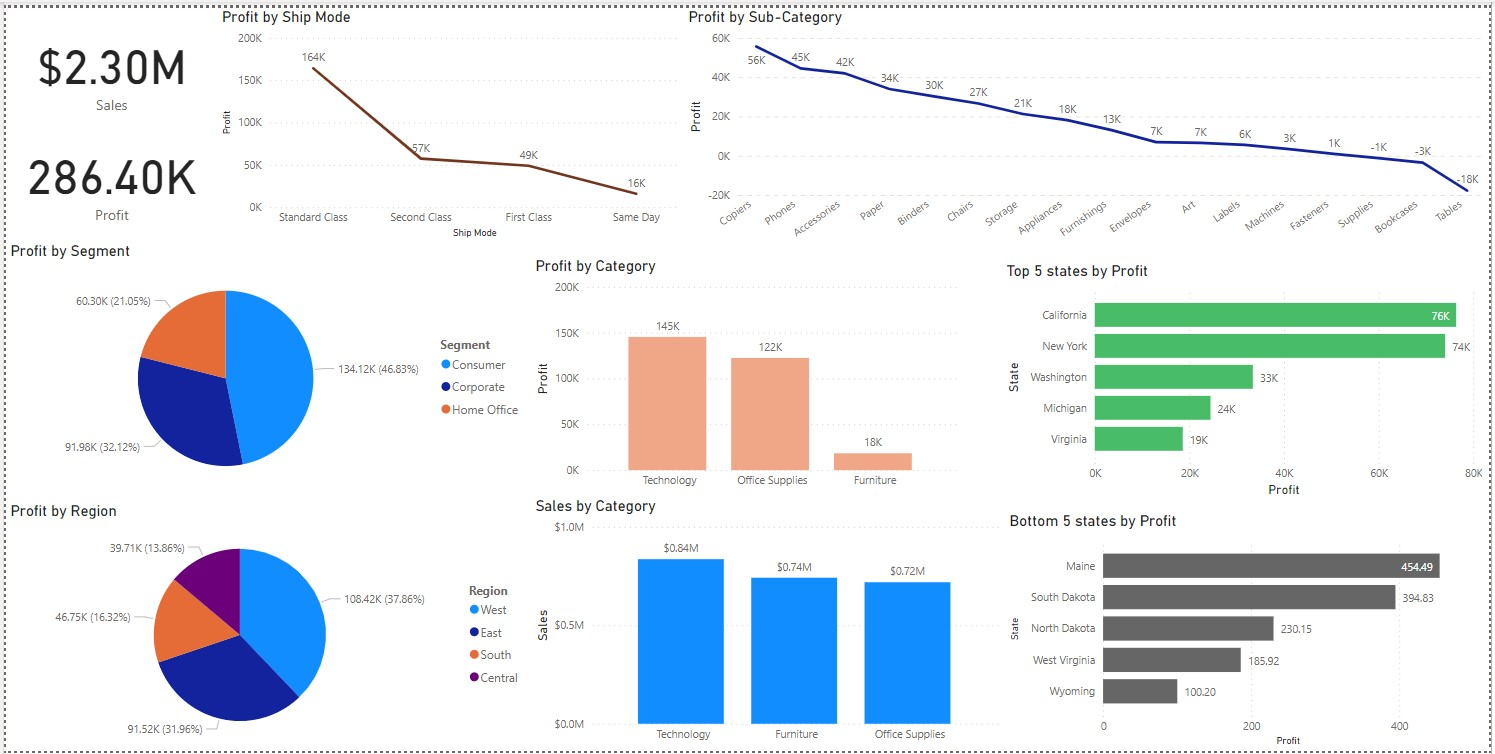

The page's visual inventory and layout, read from the dashboard file:
{"tool":"powerbi","page":{"name":"Dashboard","canvas":[1668,835],"ordinal":3},"visuals":[{"type":"columnChart","title":"Profit by Category","fields":{"Category":["SampleSuperstore.Category"],"Y":["Sum(SampleSuperstore.Profit)"]},"box":[590.4,280,484.1,269.9],"z":0},{"type":"columnChart","title":"Sales by Category","fields":{"Category":["SampleSuperstore.Category"],"Y":["Sum(SampleSuperstore.Sales)"]},"box":[590.4,549.9,533.1,285.1],"z":1000},{"type":"barChart","title":"Top 5 states by Profit","fields":{"Category":["SampleSuperstore.State"],"Y":["Sum(SampleSuperstore.Profit)"]},"box":[1120.1,285.1,544.9,269.9],"z":2000},{"type":"barChart","title":"Bottom 5 states by Profit","fields":{"Category":["SampleSuperstore.State"],"Y":["Sum(SampleSuperstore.Profit)"]},"box":[1123.5,566.8,541.5,268.2],"z":3000},{"type":"pieChart","title":"Profit by Region","fields":{"Category":["SampleSuperstore.Region"],"Y":["Sum(SampleSuperstore.Profit)"]},"box":[0,555,590.4,280],"z":4000},{"type":"pieChart","title":"Profit by Segment","fields":{"Category":["SampleSuperstore.Segment"],"Y":["Sum(SampleSuperstore.Profit)"]},"box":[0,263.2,590.4,286.8],"z":5000},{"type":"lineChart","title":"Profit by Ship Mode","fields":{"Category":["SampleSuperstore.Ship Mode"],"Y":["Sum(SampleSuperstore.Profit)"]},"box":[237.8,0,524.6,263.2],"z":6000},{"type":"card","fields":{"Values":["Sum(SampleSuperstore.Sales)"]},"box":[0,0,237.8,140],"z":7000},{"type":"card","fields":{"Values":["Sum(SampleSuperstore.Profit)"]},"box":[0,123.1,237.8,140],"z":8000},{"type":"lineChart","title":"Profit by Sub-Category","fields":{"Category":["SampleSuperstore.Sub-Category"],"Y":["Sum(SampleSuperstore.Profit)"]},"box":[762.5,0,905.8,280],"z":9000}]}

Visuals, with their boxes in screenshot pixels (x1, y1, x2, y2), scaled from the page's 1668x835 canvas onto the 1495x754 screenshot:
"Profit by Category" columnChart: box=[529, 253, 963, 497]
"Sales by Category" columnChart: box=[529, 497, 1007, 753]
"Top 5 states by Profit" barChart: box=[1004, 257, 1492, 501]
"Bottom 5 states by Profit" barChart: box=[1007, 512, 1492, 753]
"Profit by Region" pieChart: box=[0, 501, 529, 753]
"Profit by Segment" pieChart: box=[0, 238, 529, 497]
"Profit by Ship Mode" lineChart: box=[213, 0, 683, 238]
card - Sum(SampleSuperstore.Sales): box=[0, 0, 213, 126]
card - Sum(SampleSuperstore.Profit): box=[0, 111, 213, 238]
"Profit by Sub-Category" lineChart: box=[683, 0, 1494, 253]
